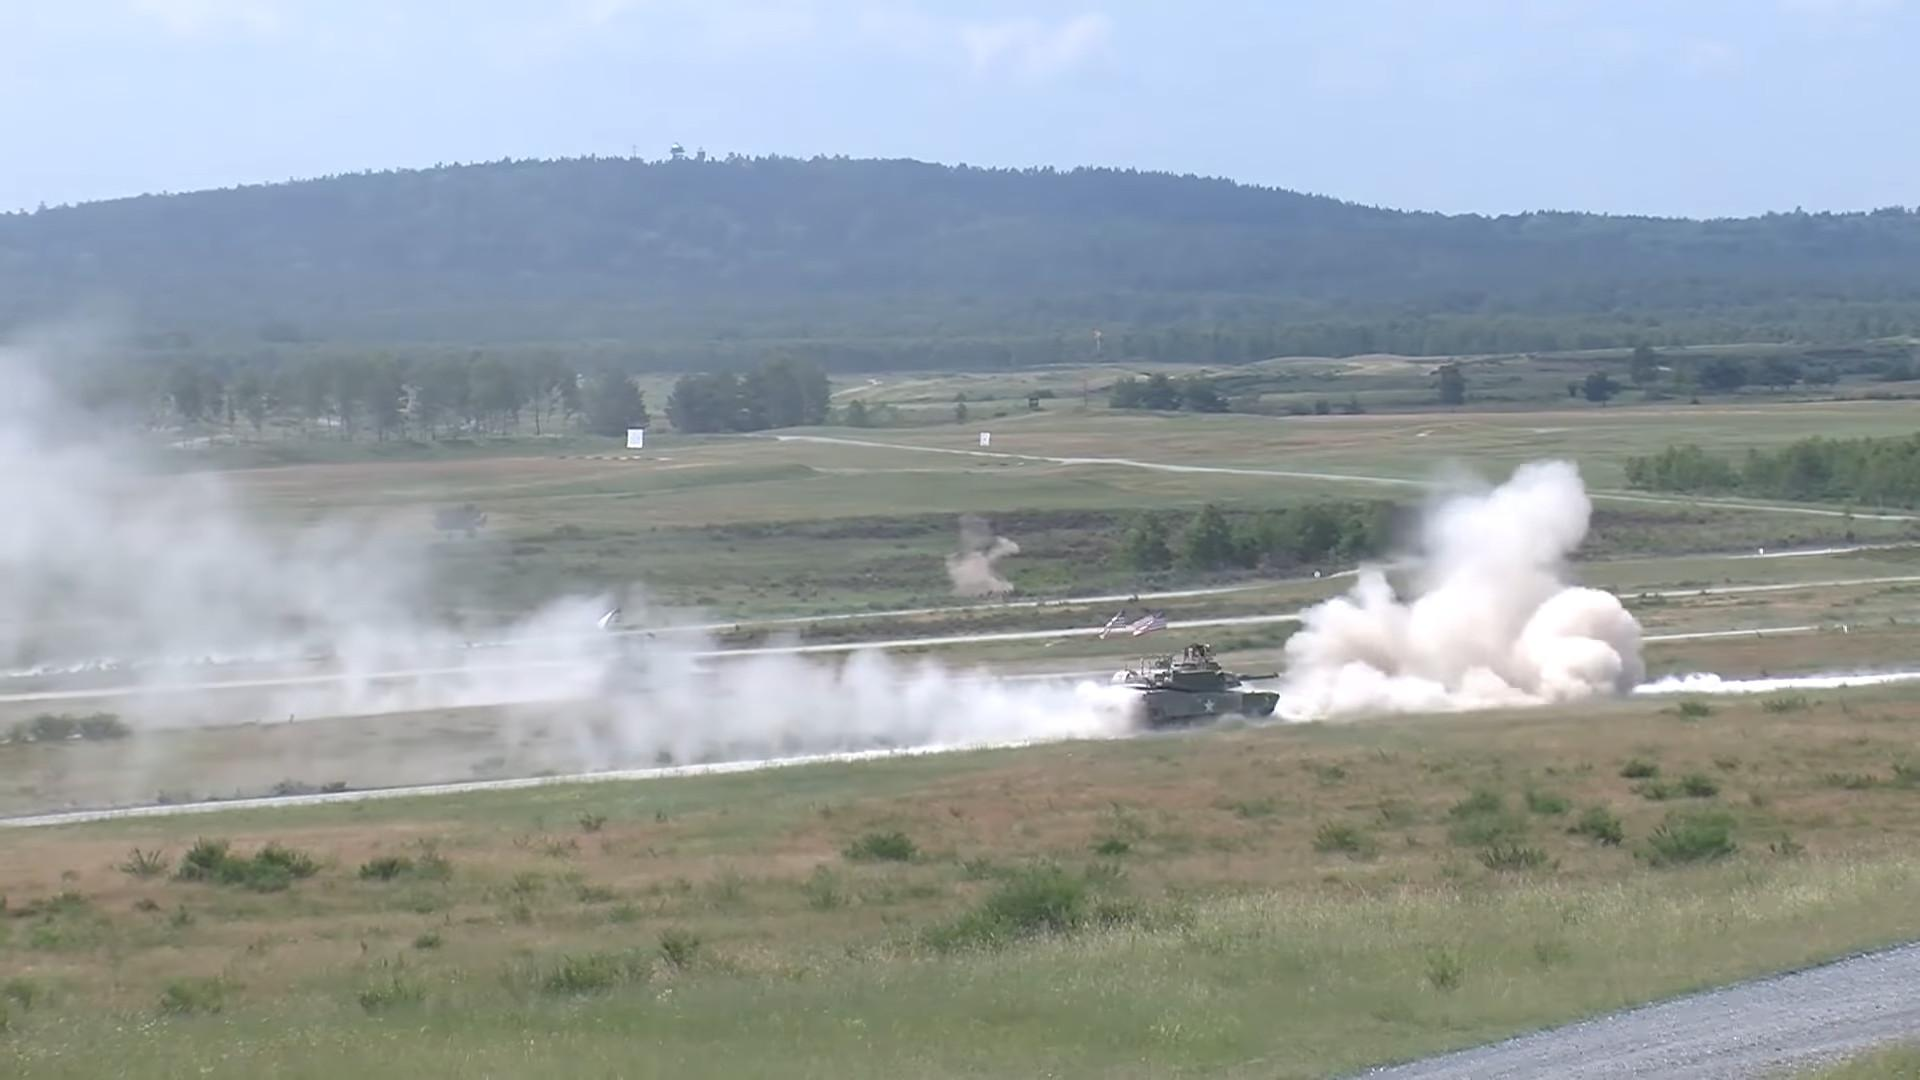tank: (1114, 644, 1279, 728)
